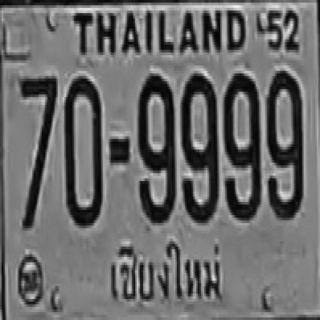N00: (64, 75, 102, 227)
N07: (19, 75, 56, 230)
N09: (265, 68, 305, 221), (136, 72, 175, 222), (180, 71, 218, 224), (223, 71, 261, 220)
P11: (104, 236, 229, 310)
